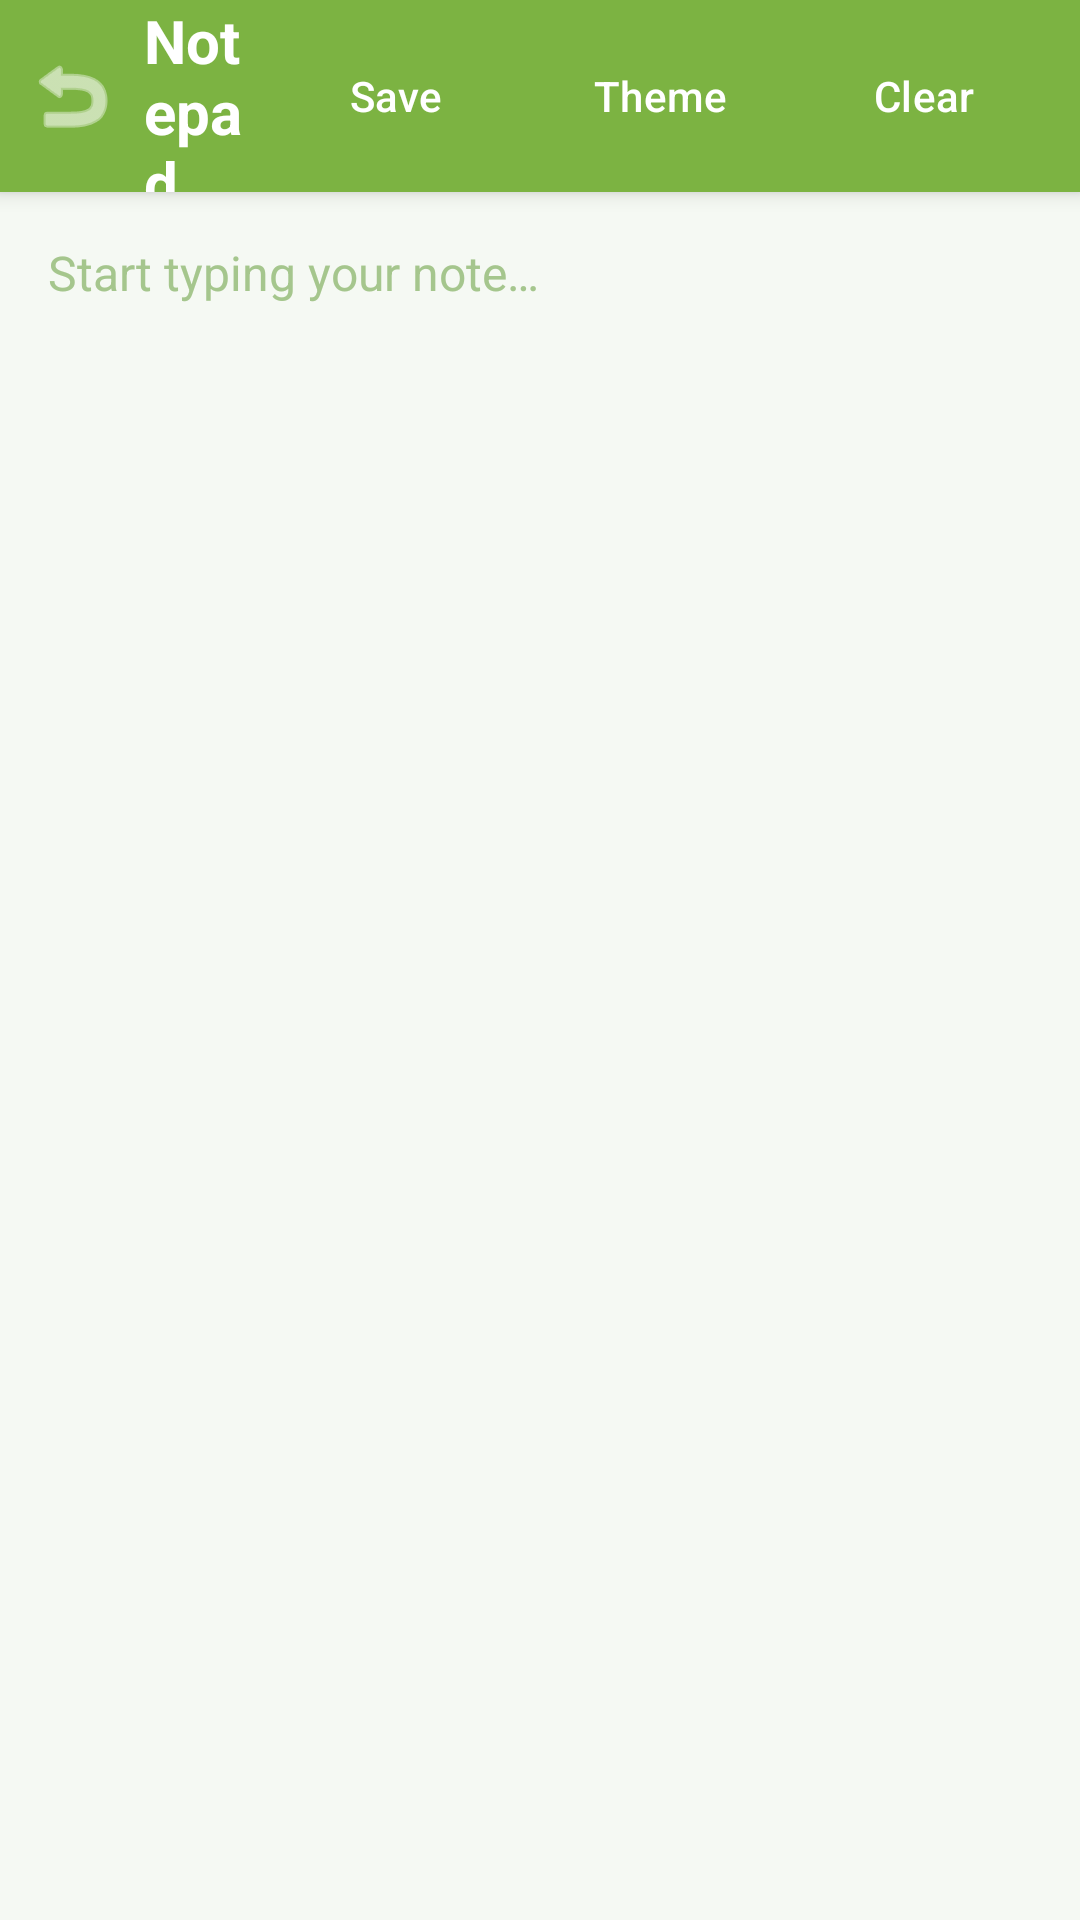

Screen size 1080w x 1920h. Icon name, then its box in pixels as (x1, y1, x2, y2):
Back: (39, 65, 108, 128)
